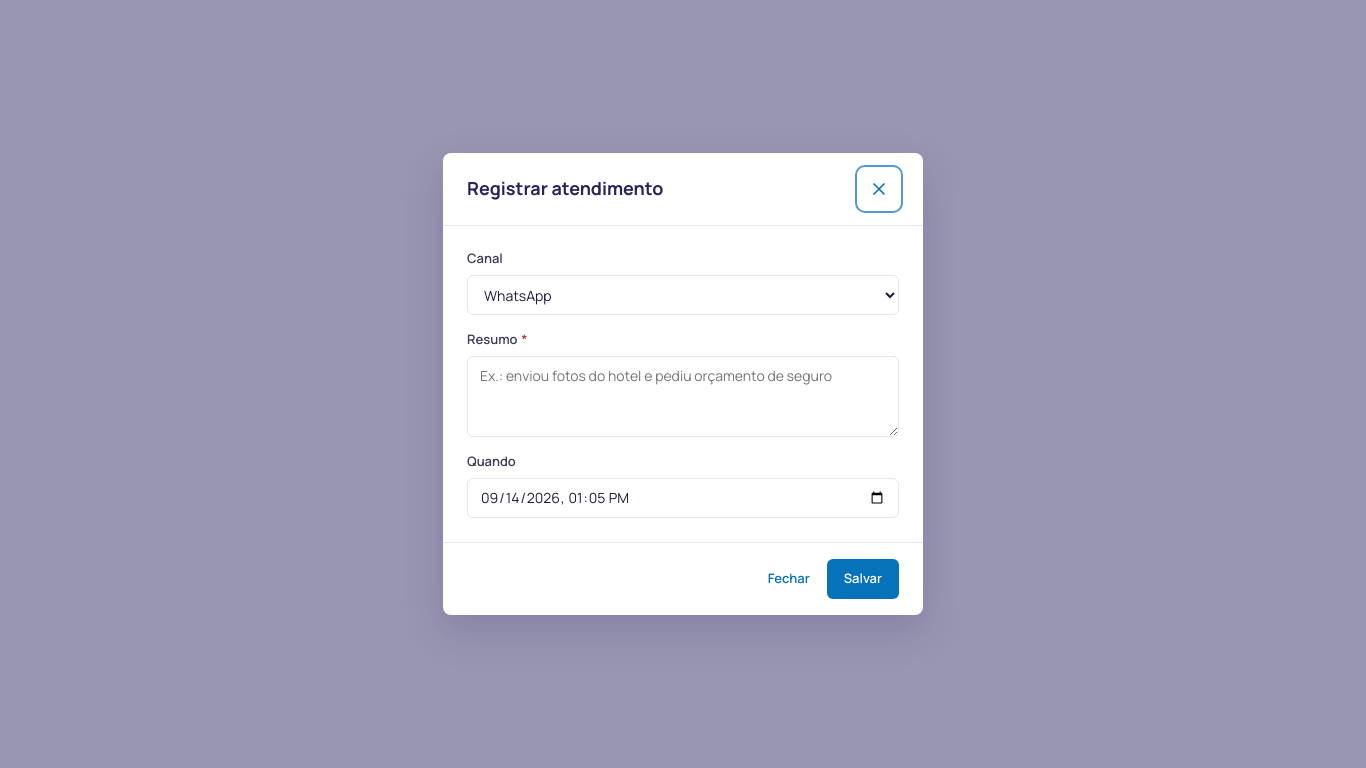
Test: 502 do servidor (F01): Alert com a mensagem e o dialog continua aberto com os dados preenchidos
Step 1. Type "Confirmou o embarque" into the text box labelled "Resumo *" → (683, 396), box left=467, top=356, right=899, bottom=437
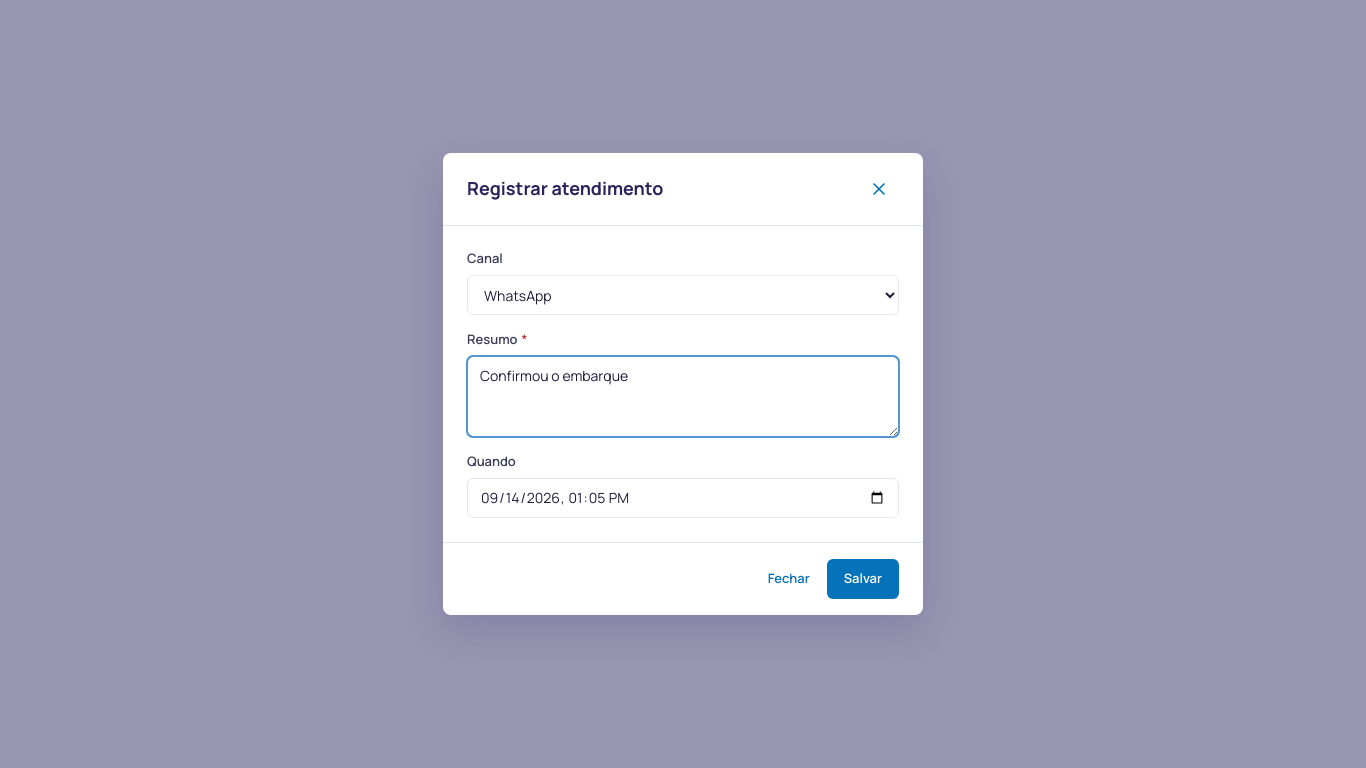
Step 2. Click the button "Salvar" → click(863, 579), box left=827, top=559, right=899, bottom=599
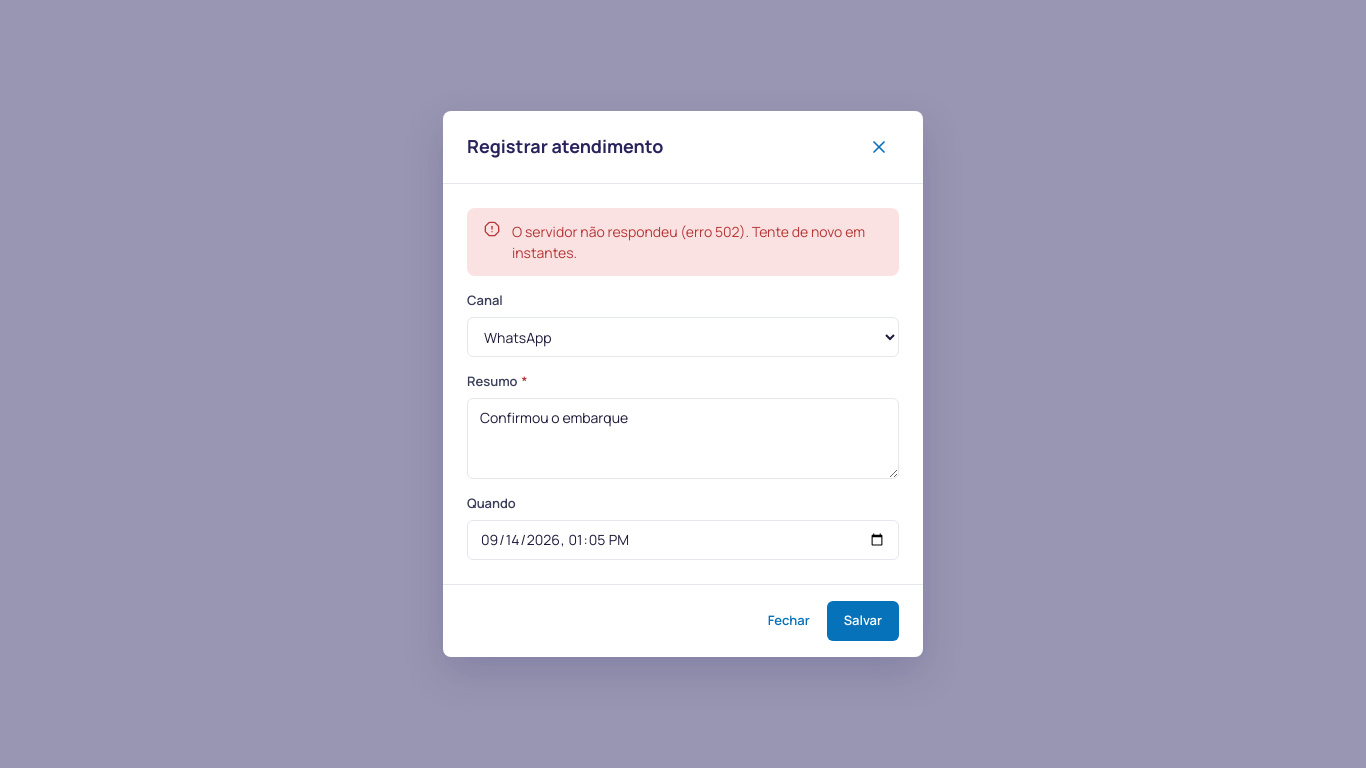
Result: the message reads "O servidor não respondeu (erro 502). Tente de novo em instantes." at left=512, top=222, right=865, bottom=262
